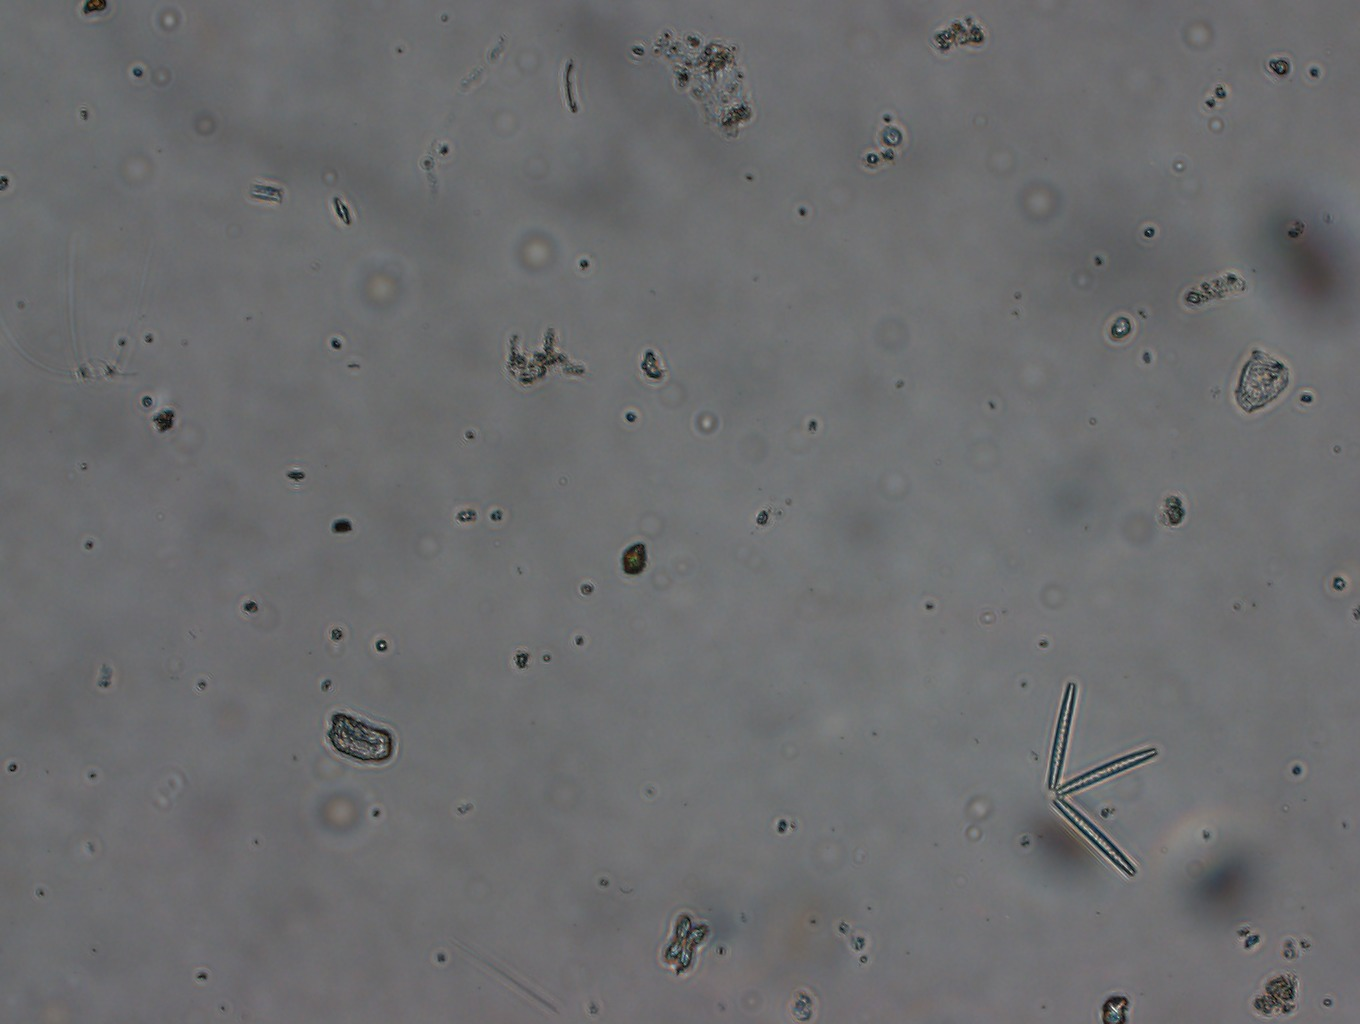thalassionema frauenfeldii: (1022, 677, 1170, 877)
